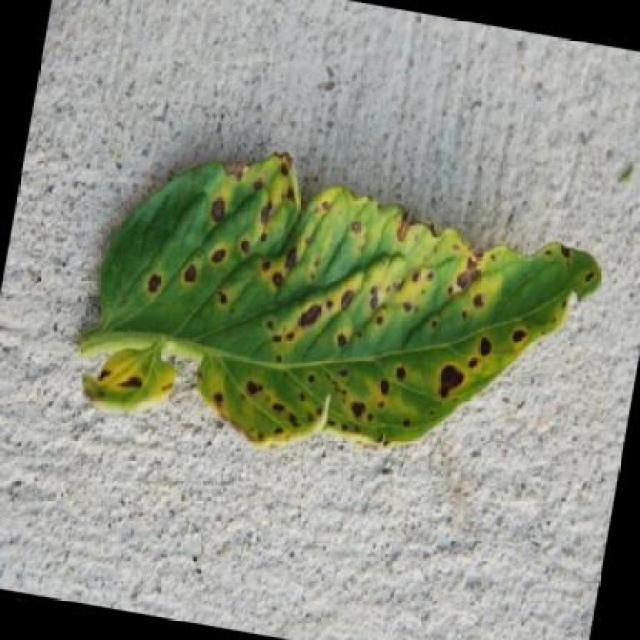Septoria leaf spot: (64, 128, 610, 504)
